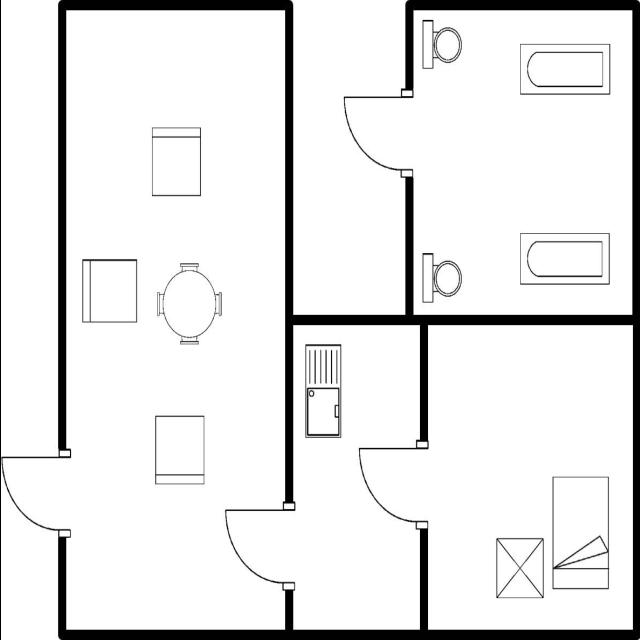bed: (548, 467, 614, 592)
coffee_table: (488, 530, 548, 602)
large_sink: (417, 247, 465, 307), (418, 16, 463, 78)
round_table: (150, 257, 228, 351)
sink: (297, 338, 347, 446)
small_sofa: (147, 408, 210, 493), (77, 253, 142, 329), (148, 116, 205, 202)
tub: (515, 226, 614, 291), (515, 38, 614, 100)
